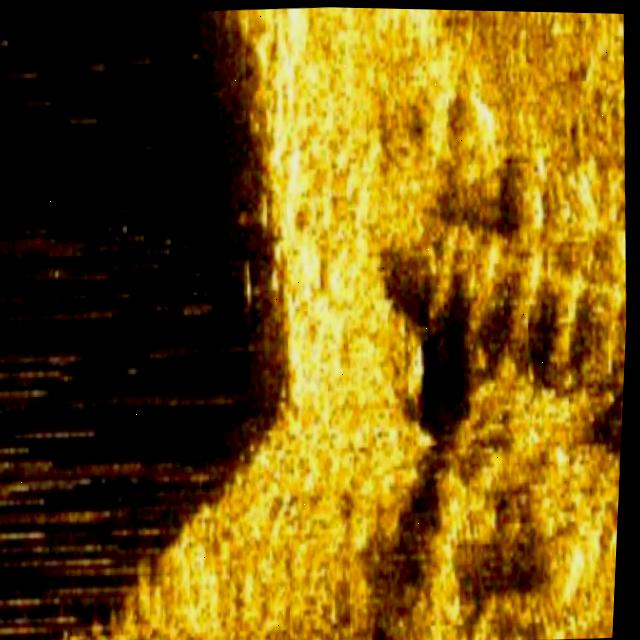bedrock group: (79, 2, 640, 640)
